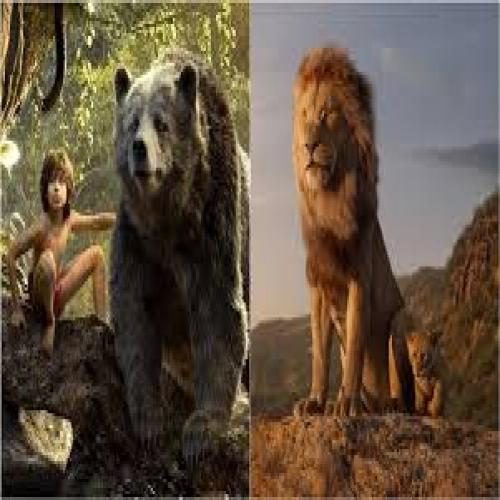lion-endangered: (294, 44, 416, 418), (408, 330, 459, 419)
